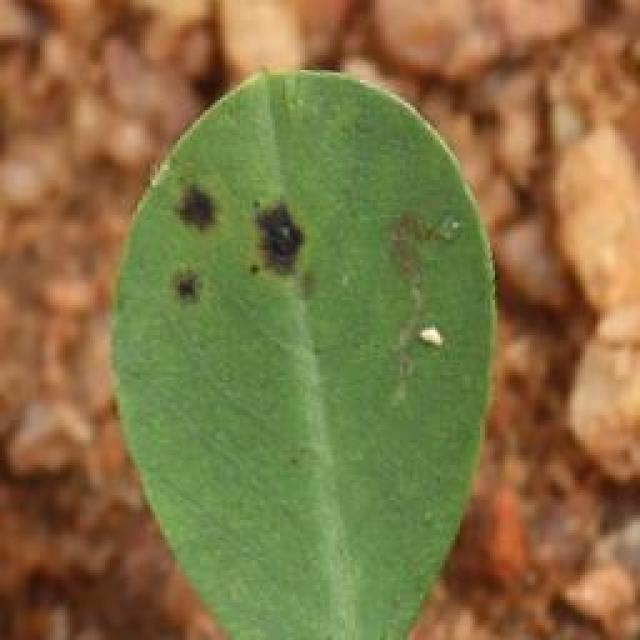Yellowish: (163, 142, 477, 417)
